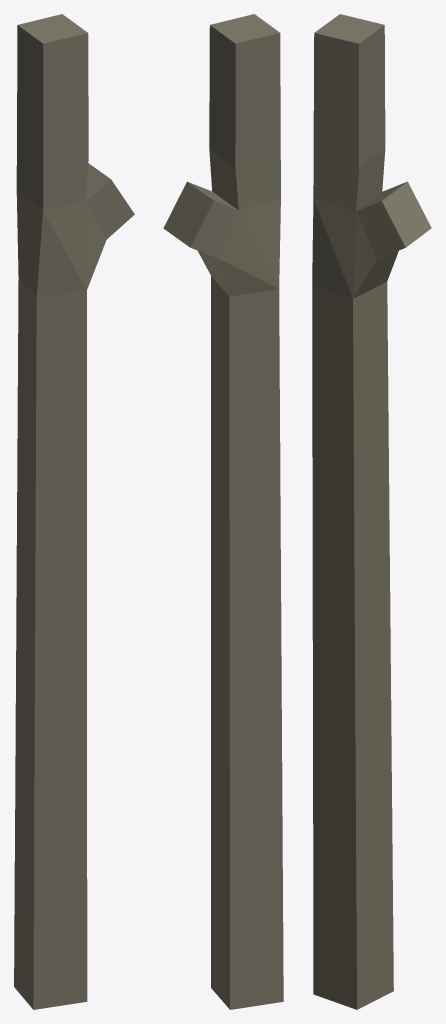
The model's file is stick.glb.
The picture shows the model from 3 angles, left to right: view 1: azimuth 30°, elevation 25°; view 2: azimuth 210°, elevation 25°; view 3: azimuth 330°, elevation 25°; orthographic projection.
Parts seen in each view (by area): view 1: Plane; view 2: Plane; view 3: Plane.
Boxes of the visible parts, x1=… form: Plane: x1=14, y1=14, x2=134, y2=1009; Plane: x1=163, y1=14, x2=283, y2=1009; Plane: x1=312, y1=14, x2=431, y2=1009.
Size of the model in its own units: 0.0999 by 0.9531 by 0.0626.
